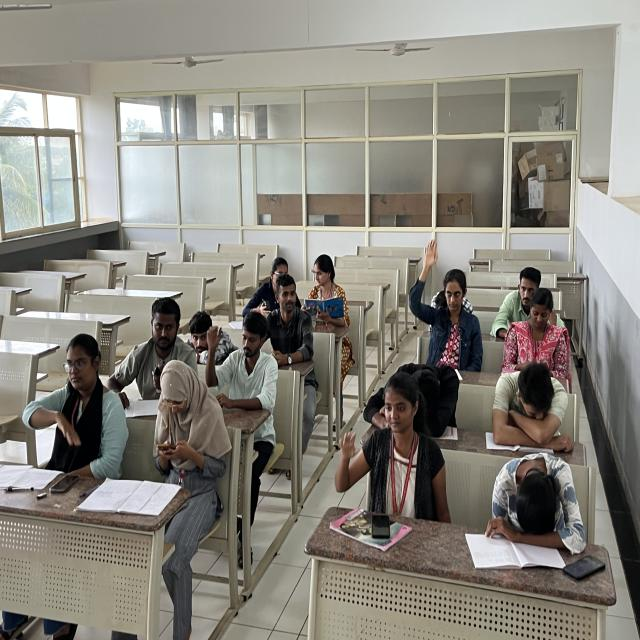Hand Rising: (407, 238, 482, 359), (202, 310, 282, 411)
Reading: (301, 253, 346, 319)
Sleeping: (484, 452, 592, 569), (487, 362, 575, 456), (400, 348, 465, 434)
Using Phone: (148, 357, 233, 500), (126, 295, 195, 393), (502, 288, 571, 371)
